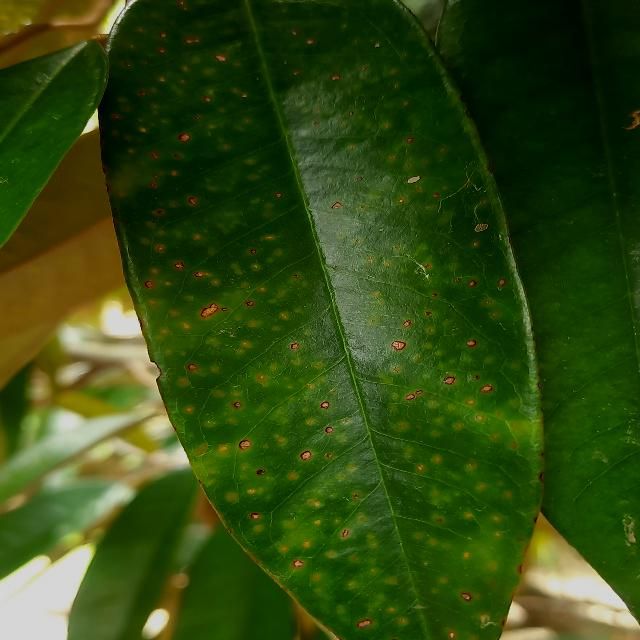Leaf Spot: (84, 0, 545, 639)
